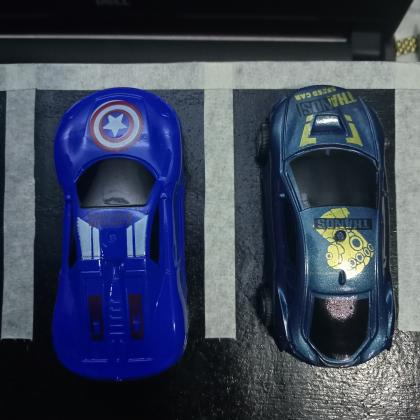Car: (52, 86, 188, 384), (258, 84, 398, 368)
